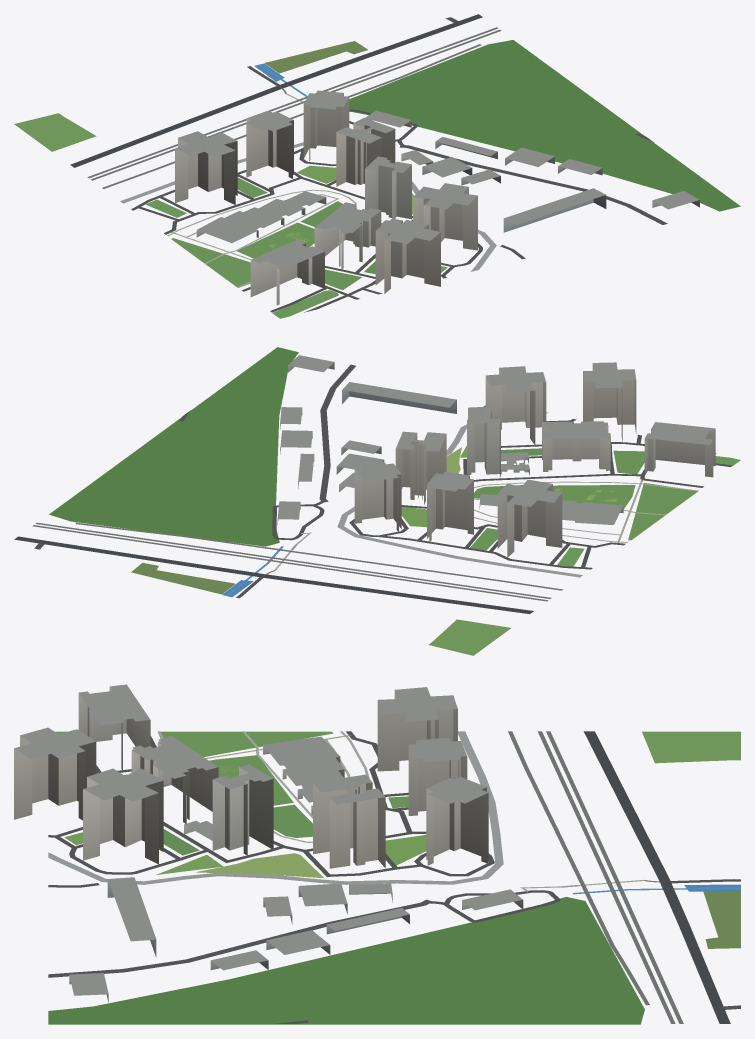
3 views of the same model, one above another, from view 1: azimuth 30°, elevation 25°; view 2: azimuth 150°, elevation 25°; view 3: azimuth 270°, elevation 25° (orthographic). The views are drawn at different scales.
Parts seen in each view (by area): view 1: ground, building; view 2: ground, building; view 3: ground, building, water.
Part boxes in pixels (bbox=[...]): ground: bbox=[14, 14, 740, 318]; building: bbox=[175, 90, 699, 305]; ground: bbox=[14, 347, 740, 655]; building: bbox=[277, 355, 715, 557]; ground: bbox=[48, 731, 740, 1024]; building: bbox=[14, 684, 523, 1002]; water: bbox=[573, 884, 740, 894].
Bounding box in the file's own units: 500 × 57 × 525.
